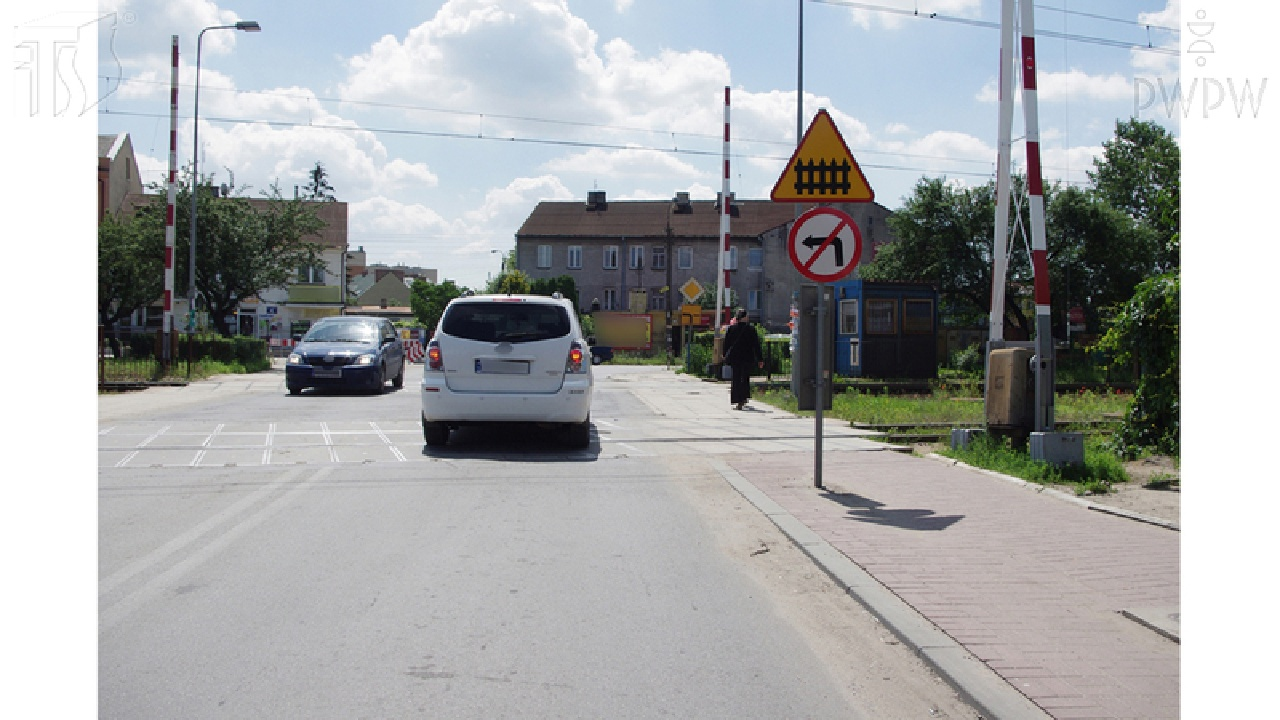A9: (768, 108, 878, 203)
B21: (788, 206, 863, 283)
D1: (678, 276, 705, 304)
